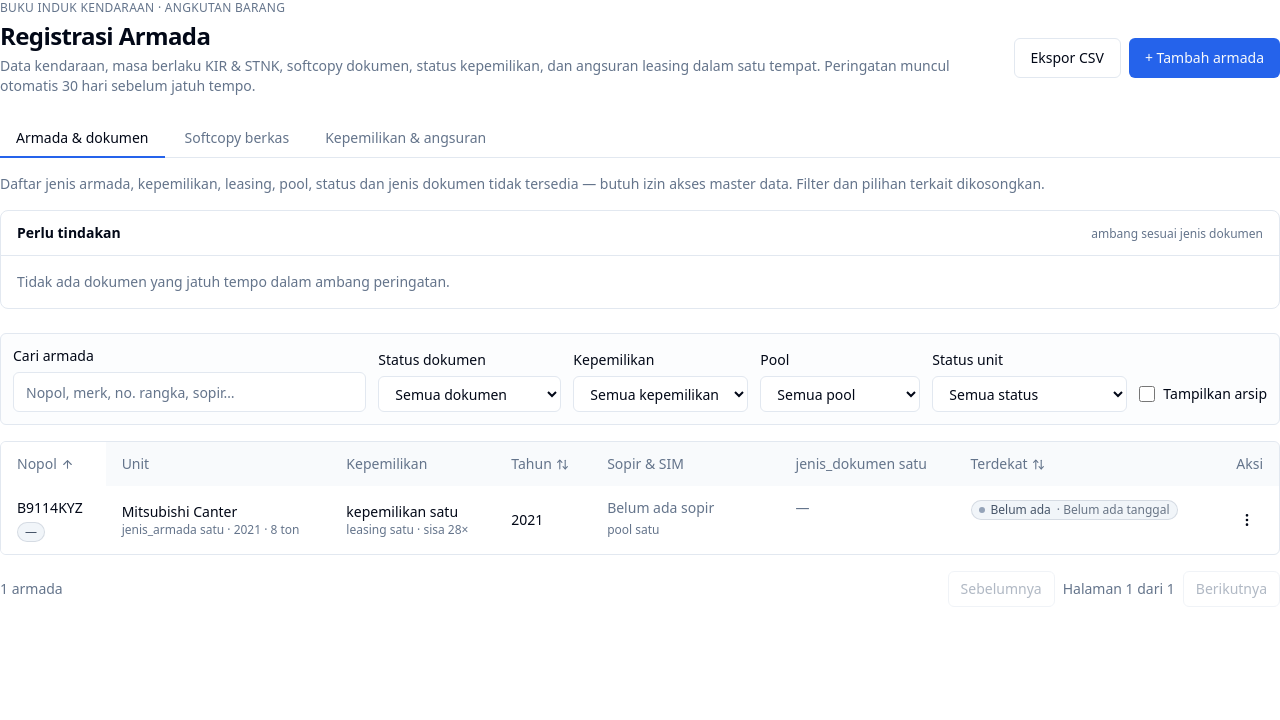
FleetVehiclesPage › opens the create dialog from the header button
The width and height of the screenshot is (1280, 720).
Click the button "+ Tambah armada": (1204,58) [1129,38,1279,78]
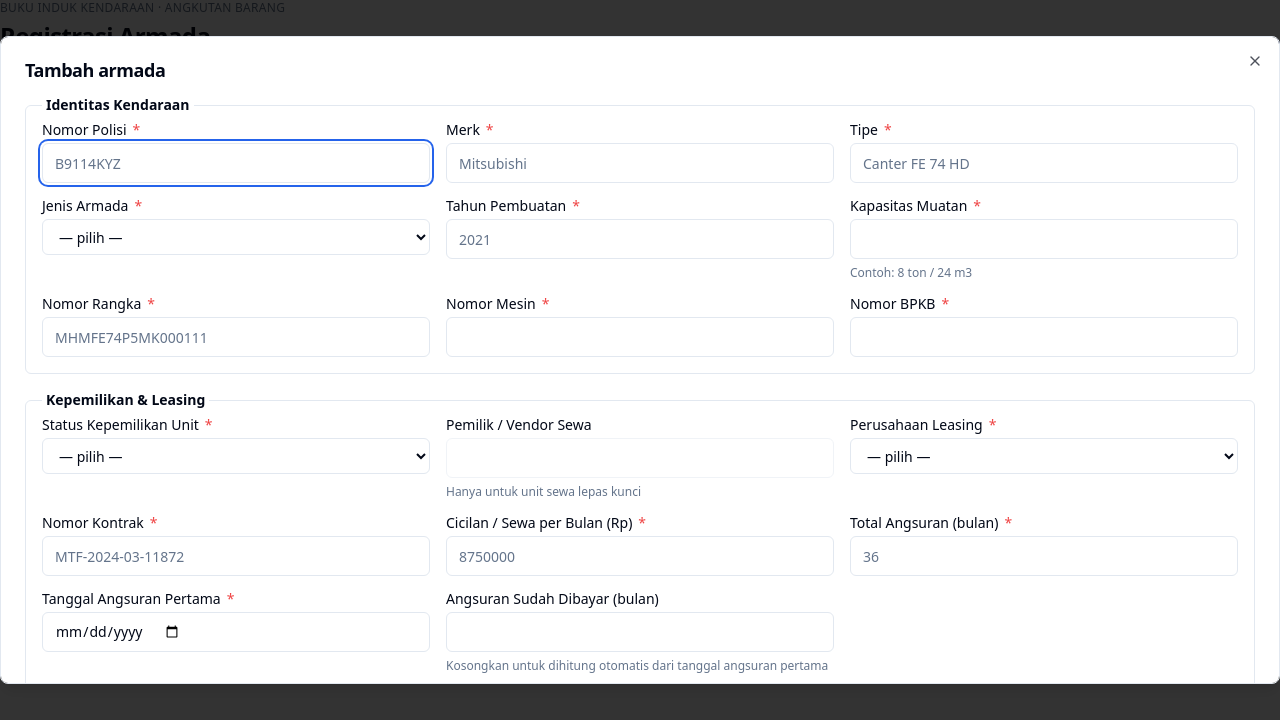
Check: the heading "Tambah armada" is shown, box [25,58,165,82]
